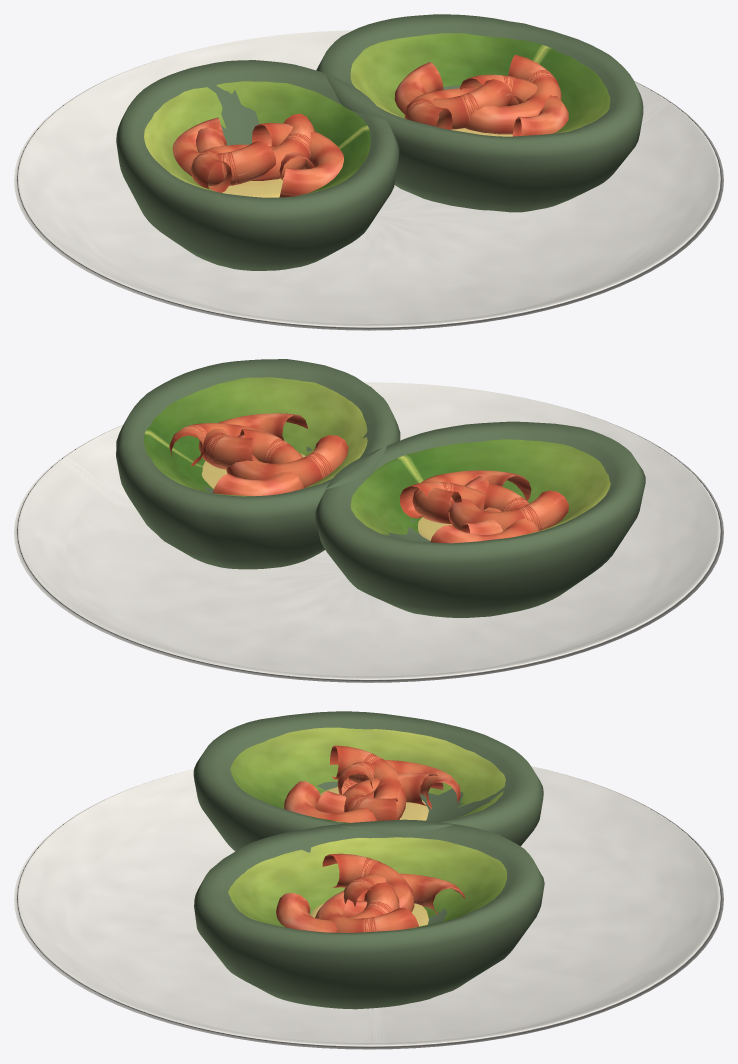
Rendered from aguacate-camarones.glb.
3 views of the same model, one above another, from view 1: azimuth 30°, elevation 25°; view 2: azimuth 150°, elevation 25°; view 3: azimuth 270°, elevation 25° (orthographic).
Bounding box in the file's own units: 0.21 × 0.0468 × 0.21.
5 materials, 3 textured.
